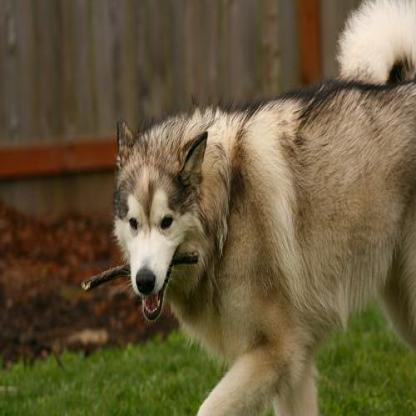malamute: (109, 1, 414, 414)
